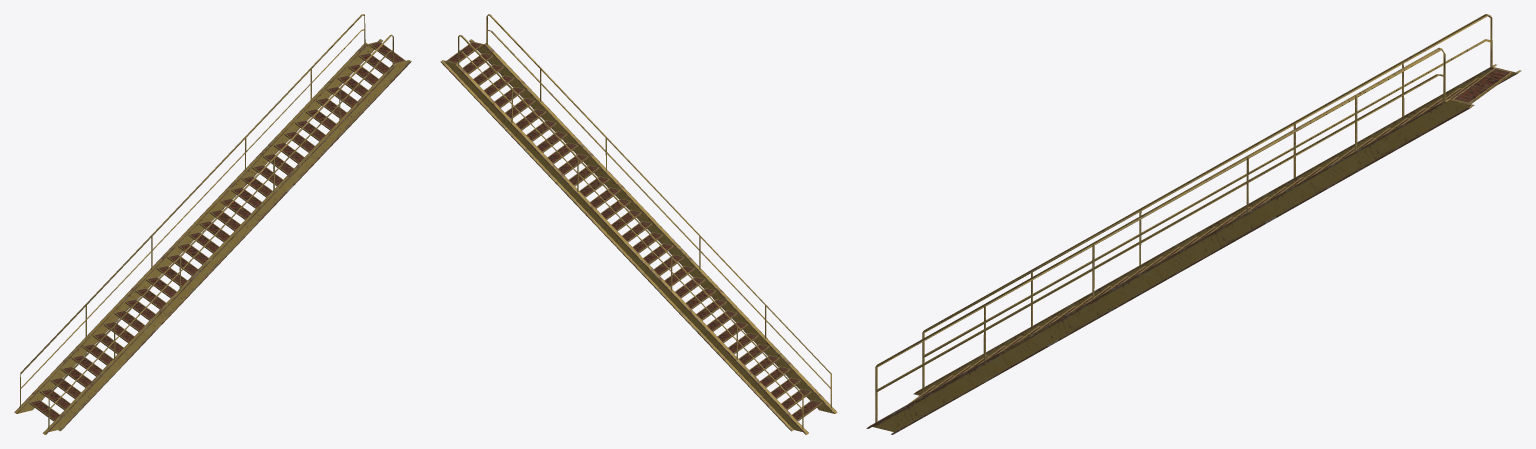
Rendered from oilrig_stairs_large.glb.
The picture shows the model from 3 angles, left to right: view 1: azimuth 30°, elevation 25°; view 2: azimuth 150°, elevation 25°; view 3: azimuth 330°, elevation 25°; orthographic projection. The views are drawn at different scales.
Visible parts, largest first — view 1: oilrig_stairs_large_LOD0; view 2: oilrig_stairs_large_LOD0; view 3: oilrig_stairs_large_LOD0.
Boxes of the visible parts, x1=… form: oilrig_stairs_large_LOD0: x1=14, y1=14, x2=411, y2=434; oilrig_stairs_large_LOD0: x1=440, y1=14, x2=837, y2=434; oilrig_stairs_large_LOD0: x1=866, y1=14, x2=1521, y2=434.
Bounding box in the file's own units: 11.16 × 9.14 × 1.63.
Materials: 2 (2 with a texture image).
